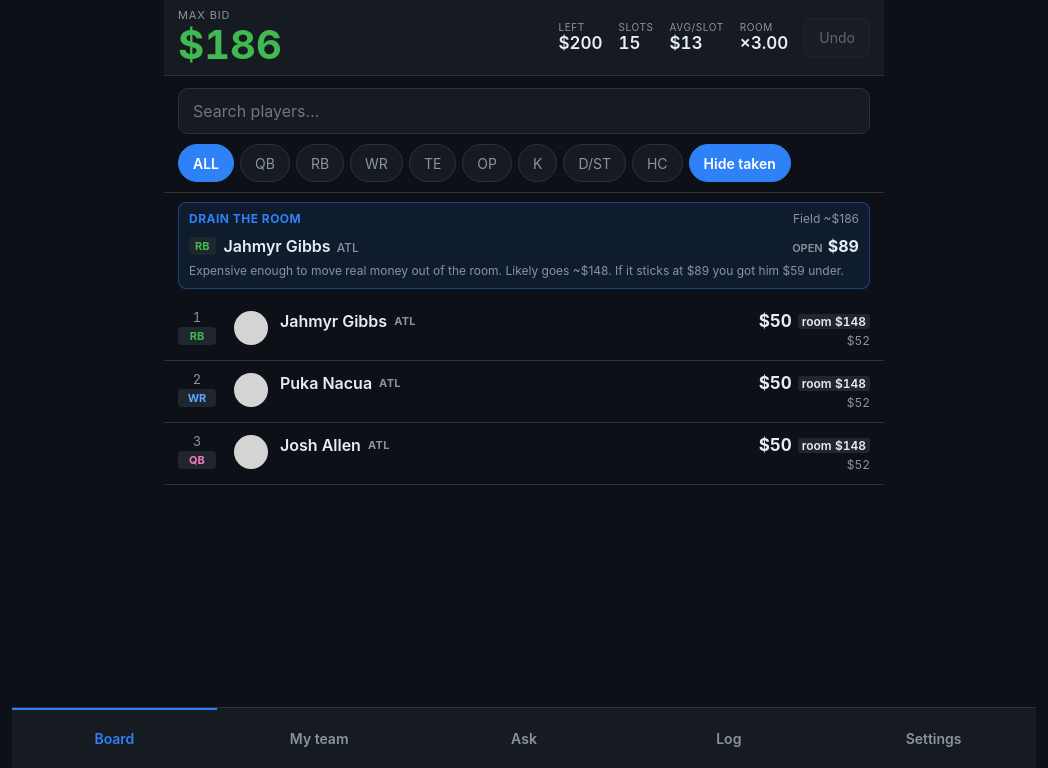
Test: draft board end to end › clears the search from the inset button and keeps focus
Type "Nacua" into the field with placeholder "Search players…" at (524, 111), box [178,88,870,134]
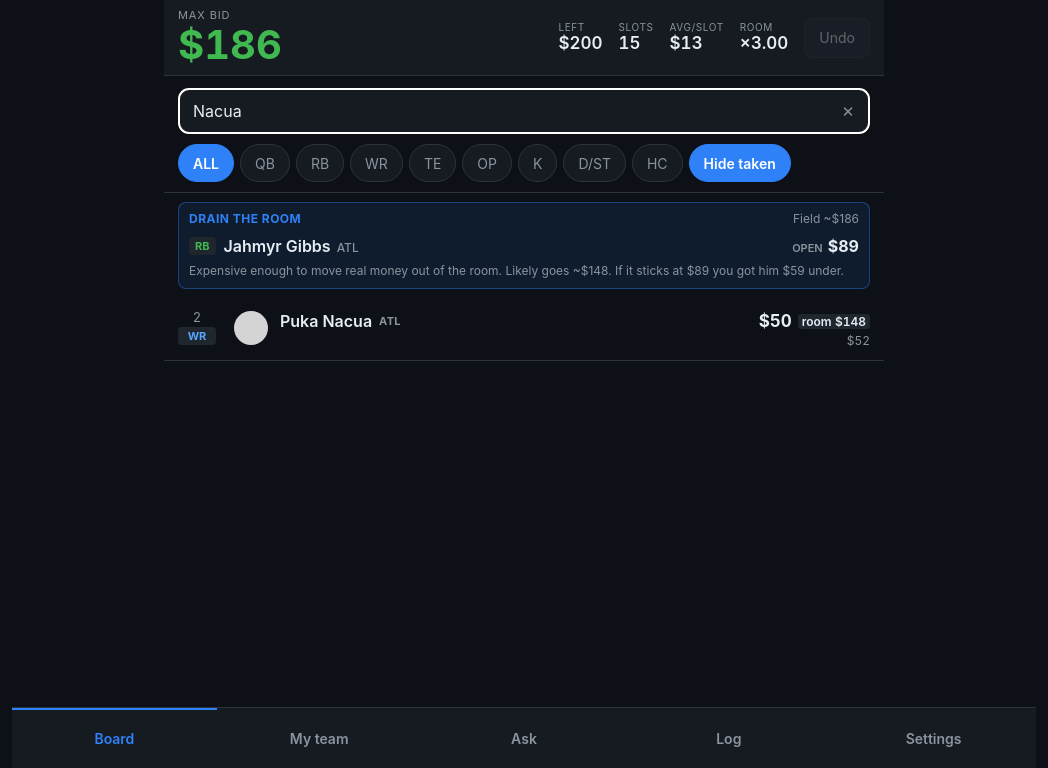
Click the button named "Clear search" at (848, 111), box [826,88,870,134]
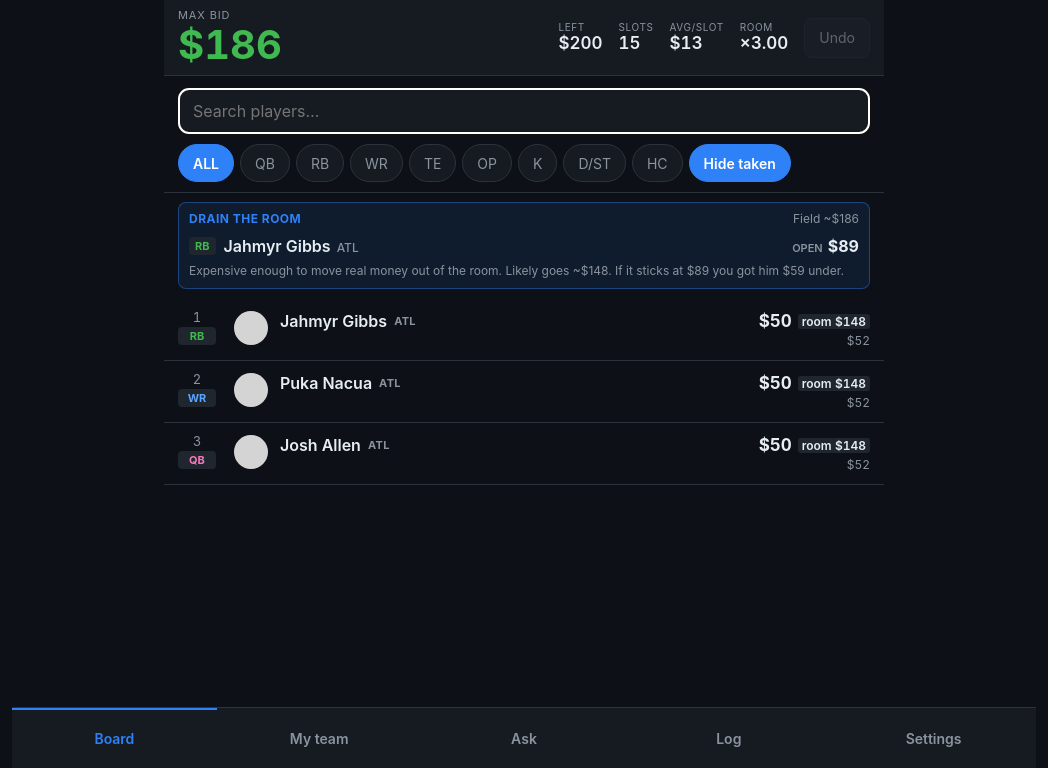
Expected: the field with placeholder "Search players…" is empty, [178,88,870,134]
Expected: the text "Jahmyr Gibbs" is shown, [280,311,387,331]
